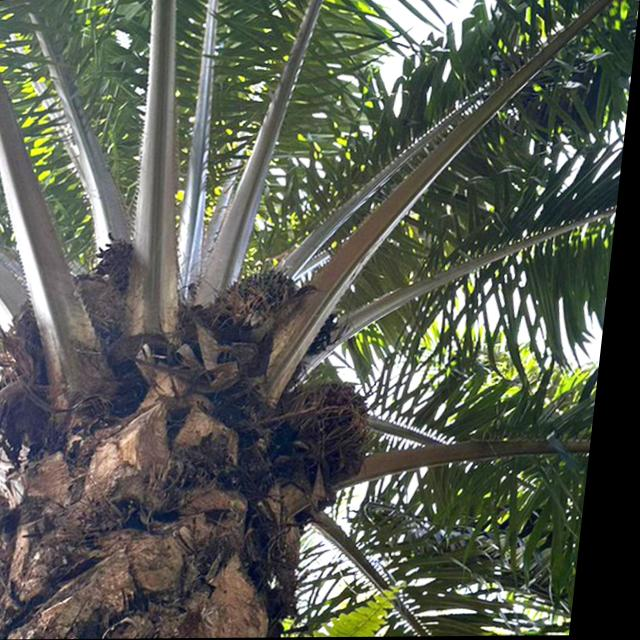unripe: (263, 371, 411, 510), (210, 258, 327, 373)
